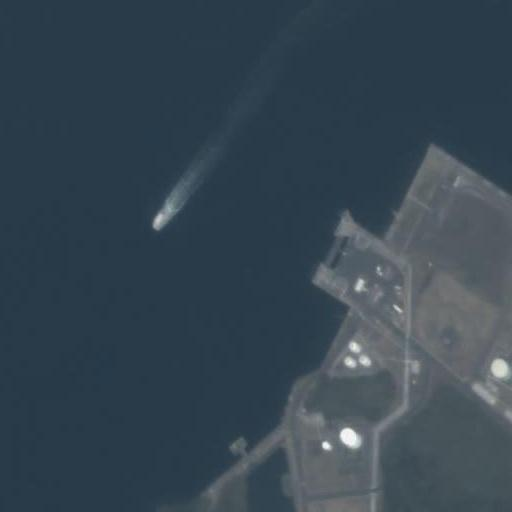person: (152, 207, 171, 231)
